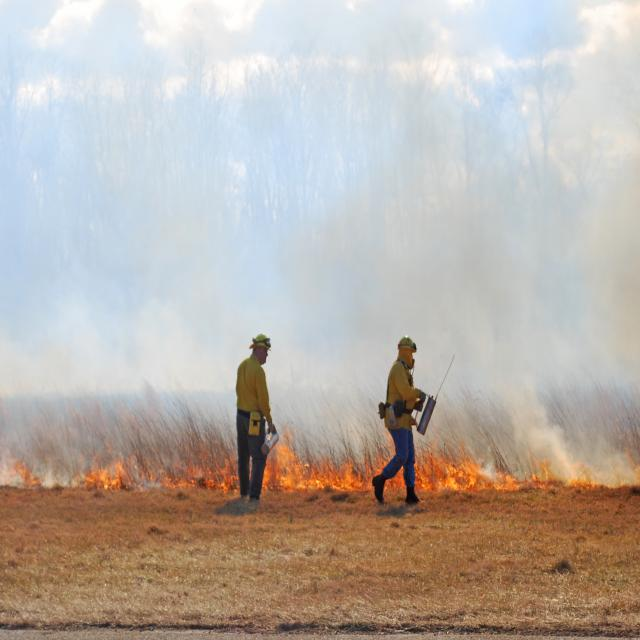Fire: (54, 434, 542, 497)
Smoke: (49, 19, 636, 480)
